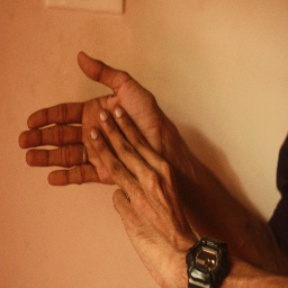M: (16, 49, 178, 200)
